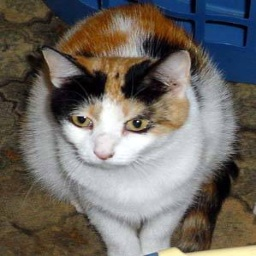cat: (19, 2, 234, 256)
